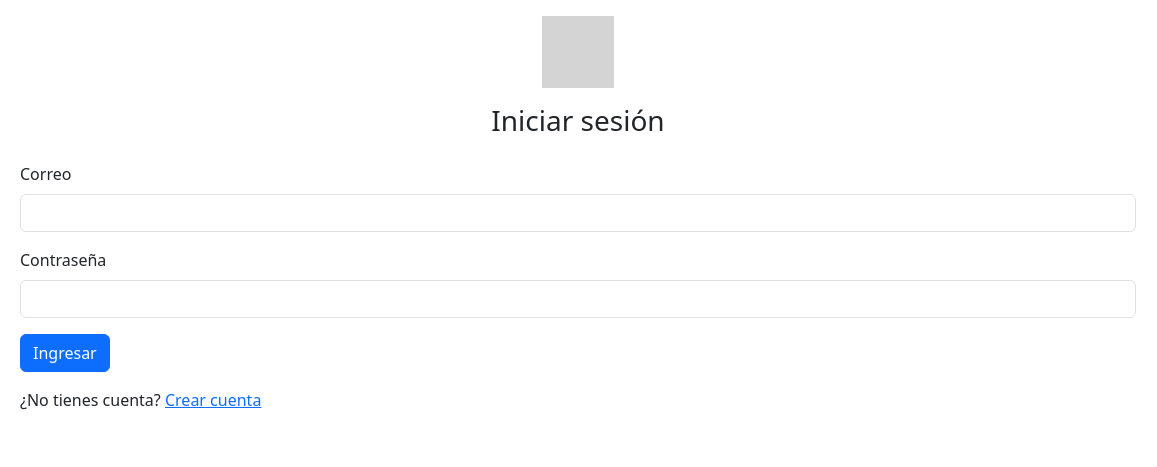
Test: Login › muestra un aviso cuando el backend rechaza las credenciales
Type "pedro@gmail.com" into the field labelled "Correo" at (578, 213), box [20, 194, 1136, 232]
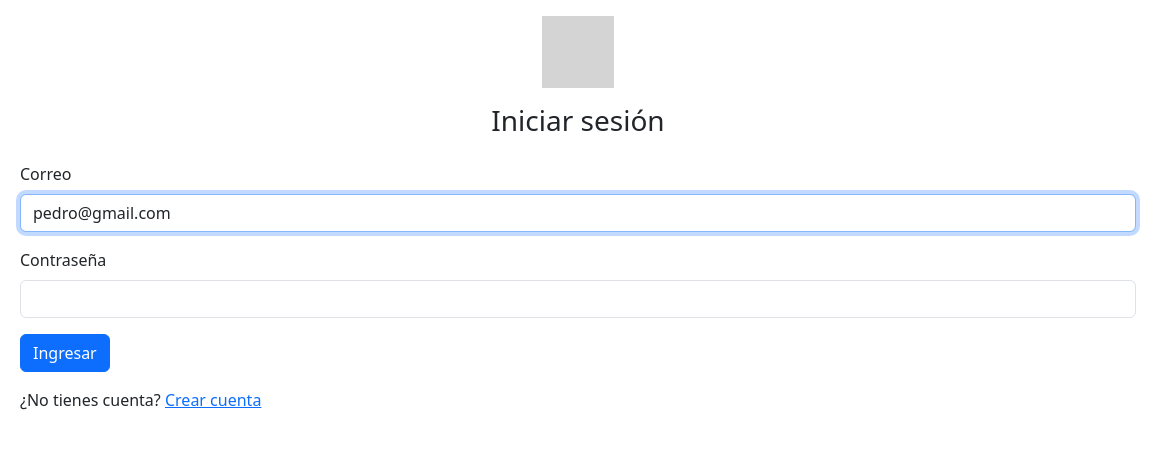
Type "mala" into the password field labelled "Contraseña" at (578, 299), box [20, 280, 1136, 318]
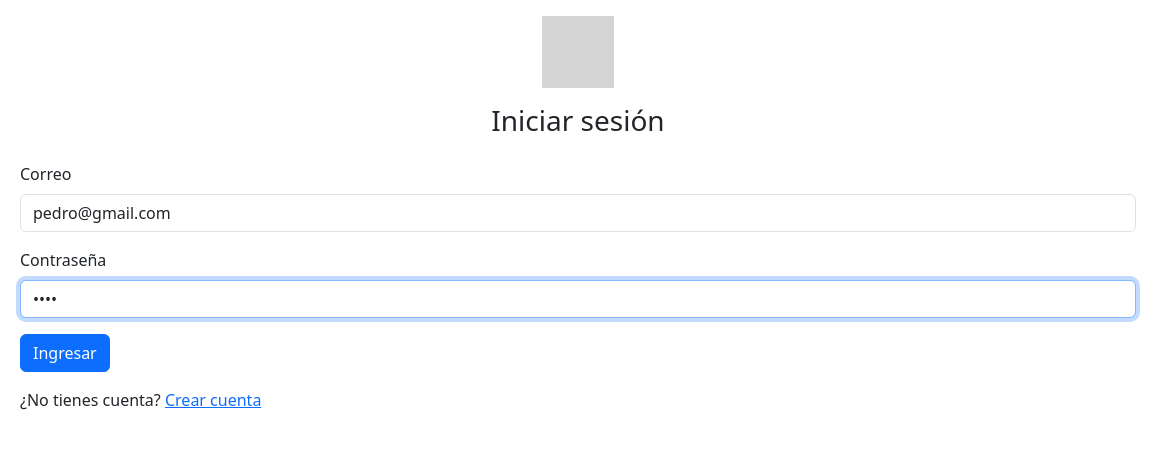
Click the button "Ingresar" at (65, 353), box [20, 334, 110, 372]
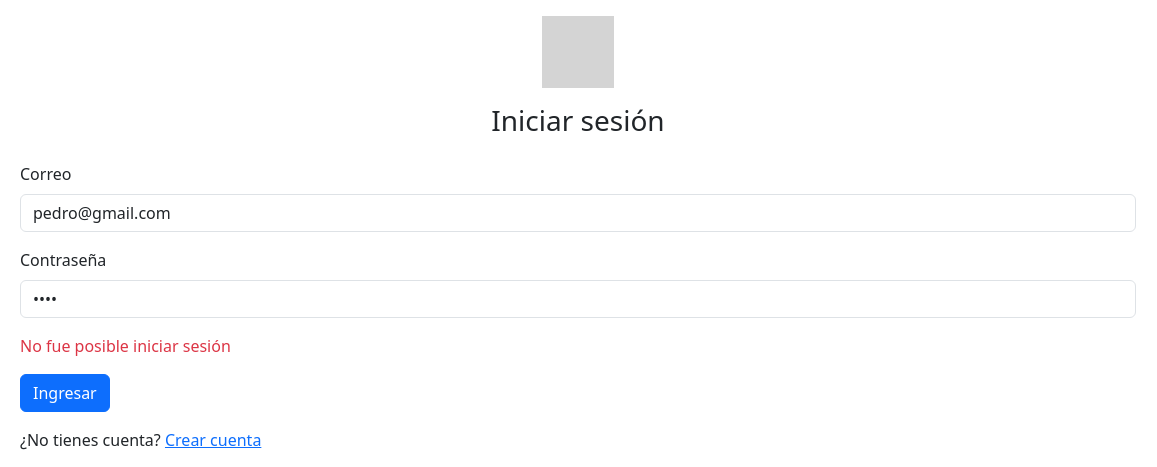
Expected: the text "No fue posible iniciar sesión" is shown, [20, 335, 231, 357]
